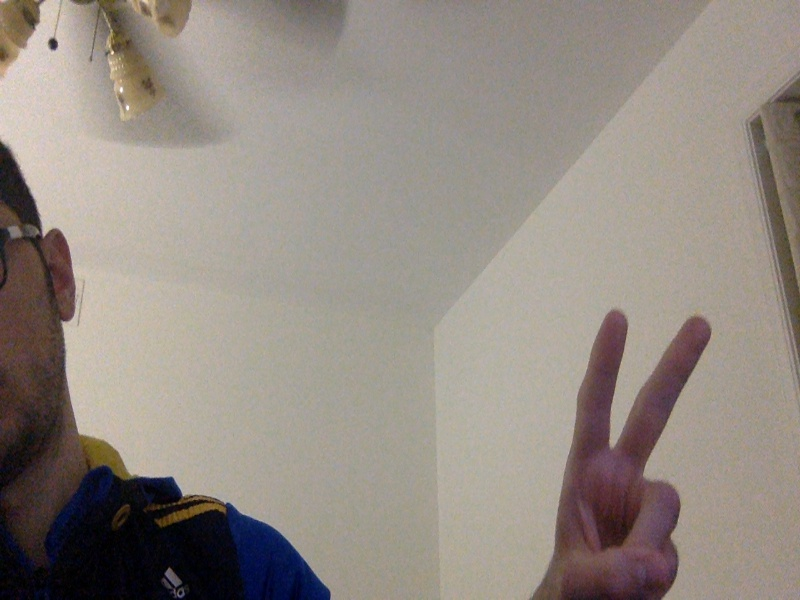2-hand: (553, 308, 714, 600)
